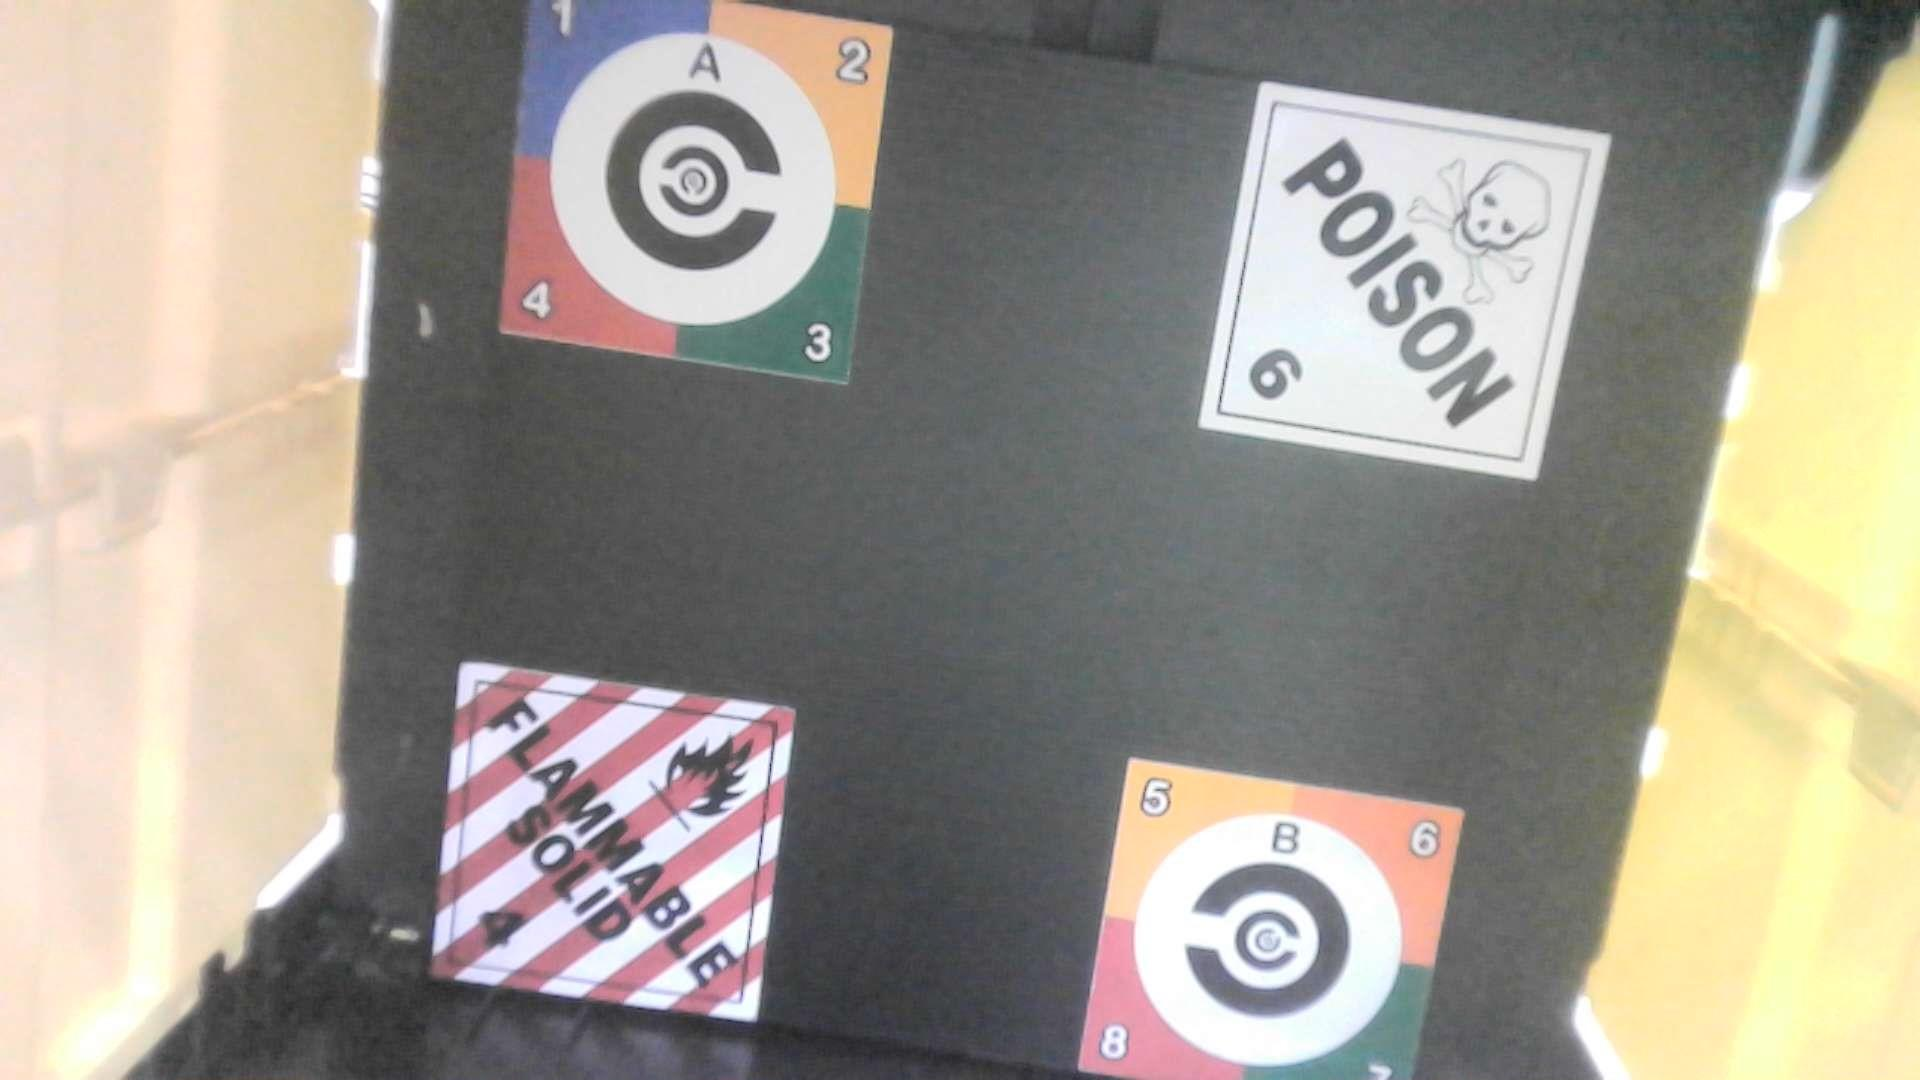flammable-solid: (434, 662, 802, 1030)
poison: (1193, 80, 1614, 487)
